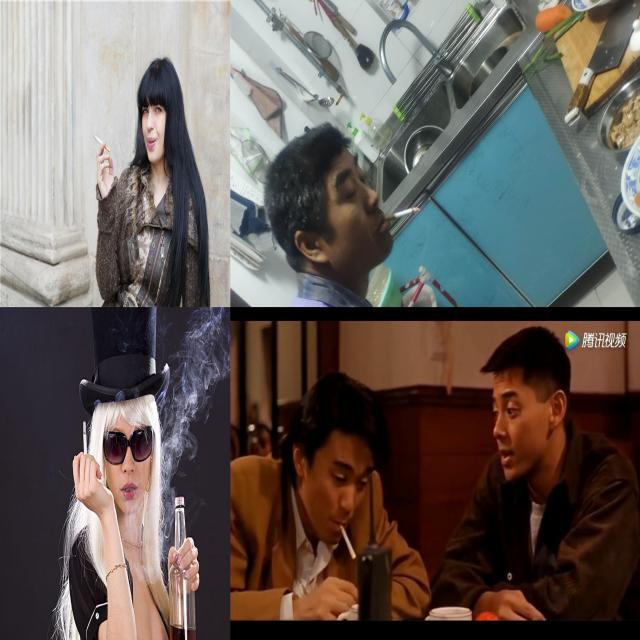smoke: (337, 520, 357, 566), (384, 207, 421, 222), (92, 131, 111, 156), (80, 418, 88, 461)
